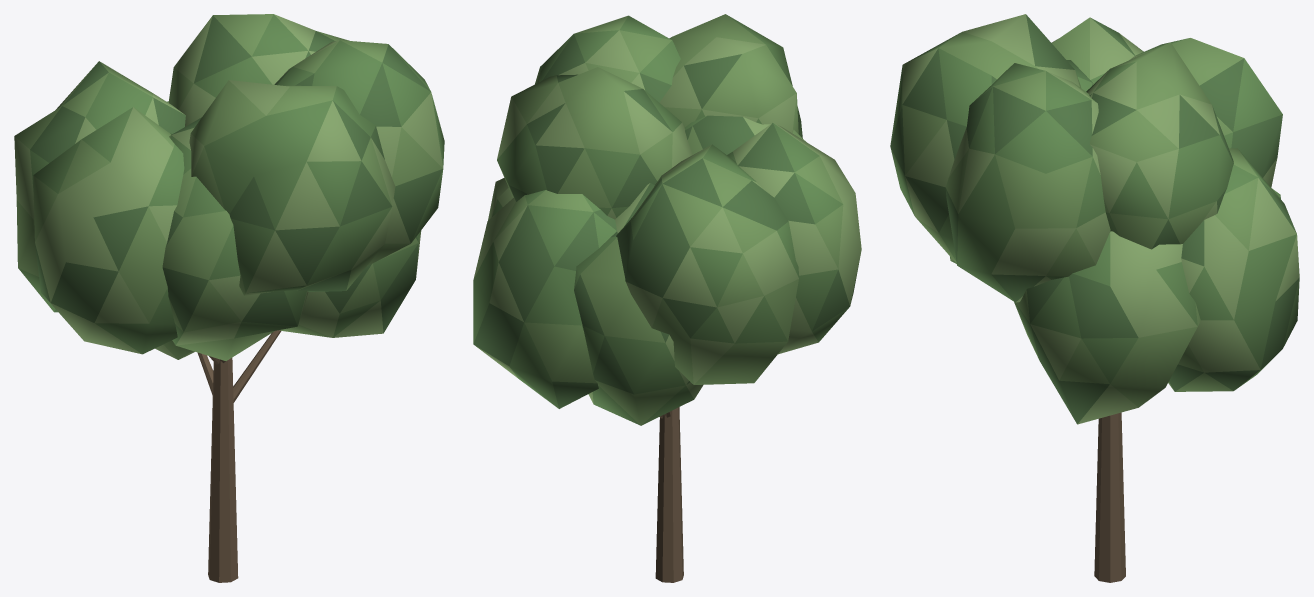
Rendered from pilot-broadleaf.glb.
The picture shows the model from 3 angles, left to right: view 1: azimuth 30°, elevation 25°; view 2: azimuth 150°, elevation 25°; view 3: azimuth 270°, elevation 25°; orthographic projection. The views are drawn at different scales.
Visible parts, largest first — view 1: Icosphere.008; view 2: Icosphere.008; view 3: Icosphere.008.
Boxes of the visible parts, bbox=[...] form: Icosphere.008: bbox=[14, 14, 444, 582]; Icosphere.008: bbox=[473, 14, 861, 582]; Icosphere.008: bbox=[890, 14, 1299, 582].
Bounding box in the file's own units: 5.74 × 8 × 5.42.
